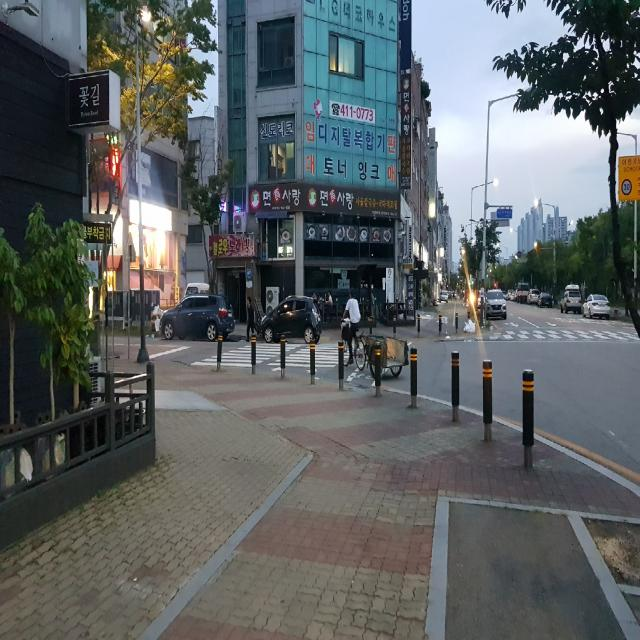횡단보도: (191, 343, 367, 376), (481, 328, 640, 340)
